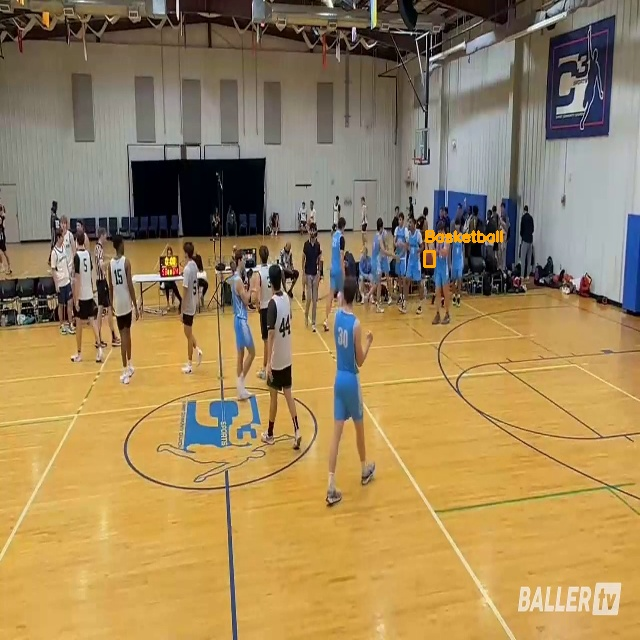Basketball: (424, 251, 434, 266)
